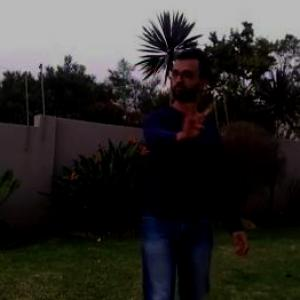takeoff-hand: (168, 96, 216, 140)
